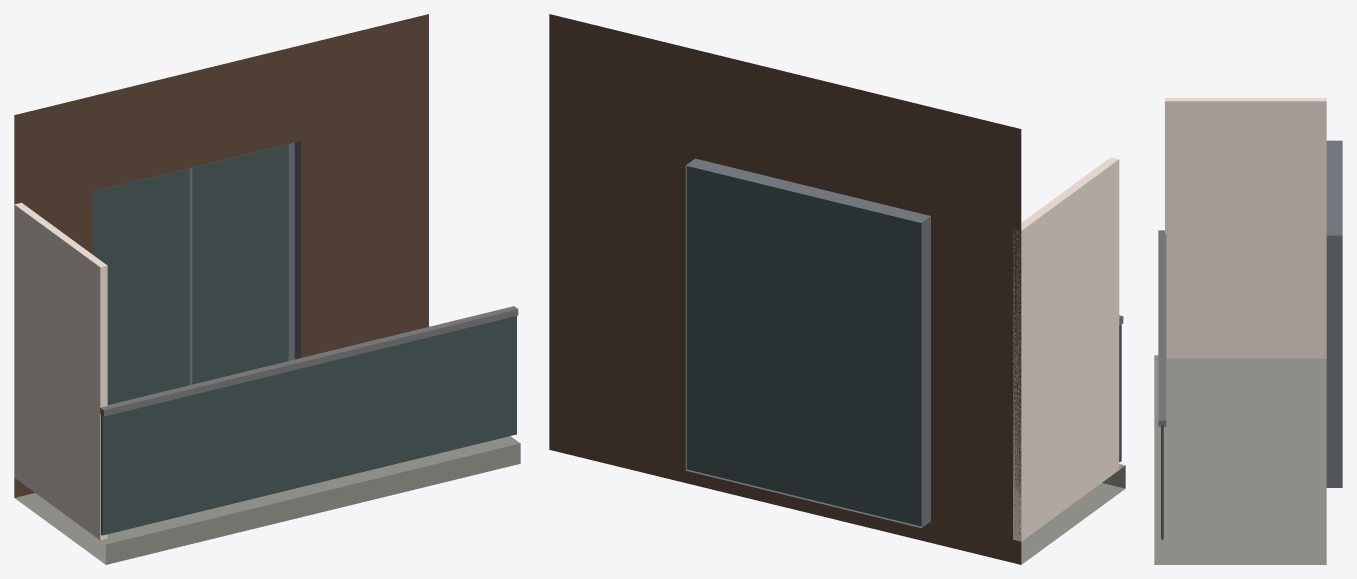
Rendered from mid-w1.fbx.
3 renders of one model, left to right at view 1: azimuth 30°, elevation 25°; view 2: azimuth 150°, elevation 25°; view 3: azimuth 270°, elevation 25°, orthographic. The views are drawn at different scales.
Parts seen in each view (by area): view 1: a2001/800/mid-w1; view 2: a2001/800/mid-w1; view 3: a2001/800/mid-w1.
Boxes of the visible parts, x1,y1,x2,y2 form: a2001/800/mid-w1: (14,14,520,564); a2001/800/mid-w1: (549,14,1125,564); a2001/800/mid-w1: (1154,98,1342,564).
Size of the model in its own units: 3.4 by 3 by 1.42.
